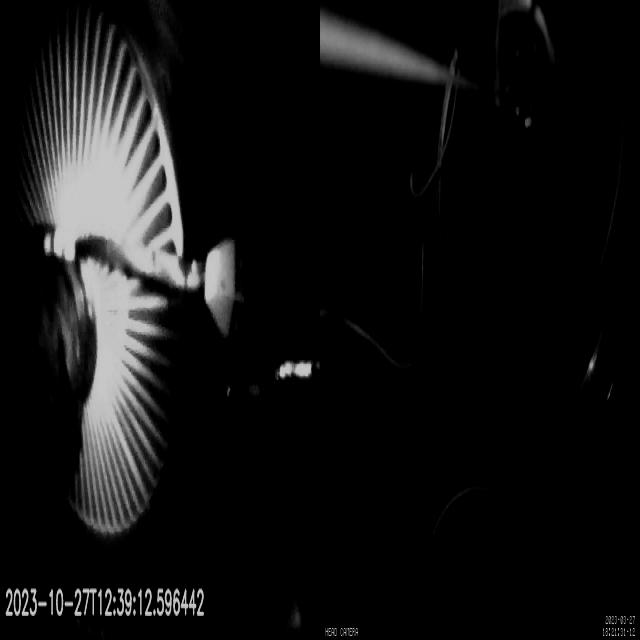head: (205, 236, 272, 348)
white-dots: (44, 222, 76, 263)
